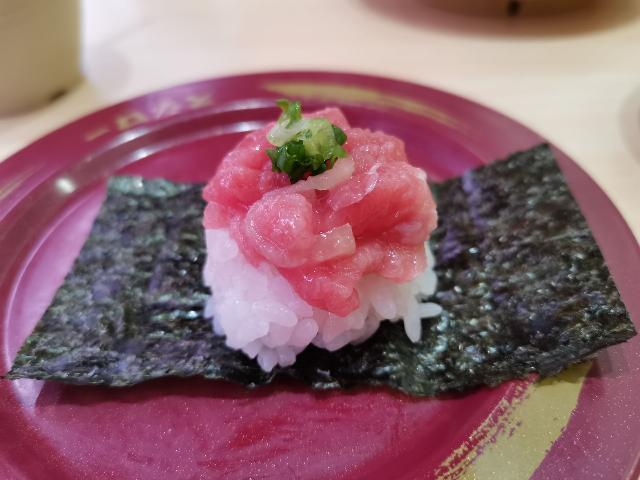janred: (0, 87, 640, 472)
